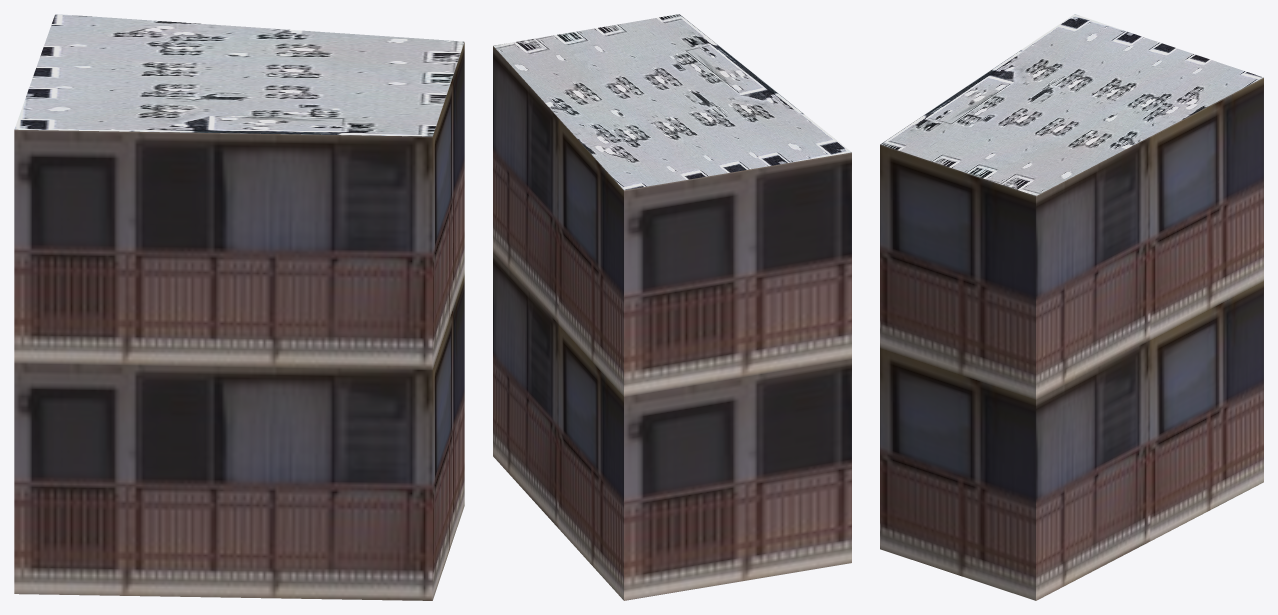
The model's file is ResTex__2190.fbx.
3 views of the same model, side by side, from view 1: azimuth 30°, elevation 25°; view 2: azimuth 150°, elevation 25°; view 3: azimuth 270°, elevation 25° (orthographic). The views are drawn at different scales.
Visible parts, largest first — view 1: CityEngineMaterial_6_m, CityEngineMaterial_4_m; view 2: CityEngineMaterial_6_m, CityEngineMaterial_4_m; view 3: CityEngineMaterial_6_m, CityEngineMaterial_4_m.
Boxes of the visible parts, <box> form: CityEngineMaterial_6_m: <box>14,42,464,600</box>; CityEngineMaterial_4_m: <box>14,14,464,136</box>; CityEngineMaterial_6_m: <box>493,46,851,600</box>; CityEngineMaterial_4_m: <box>493,14,851,190</box>; CityEngineMaterial_6_m: <box>880,77,1263,600</box>; CityEngineMaterial_4_m: <box>880,14,1263,195</box>.
Size of the model in its own units: 5.79 by 6 by 5.15.
2 materials, 2 textured.
